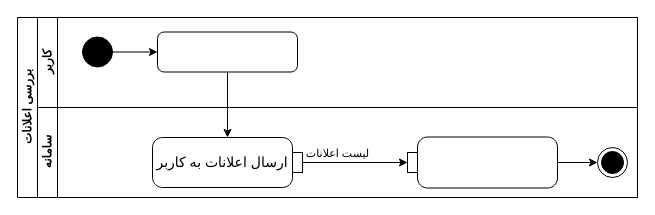
Image size: 655x215. Some labels were removed from this diagram. Here are the shapes that lost their labels. From the top down, the centre of each, then its label:
the point at 227,51: درخواست خواندن اعلانات
the point at 482,162: نمایش اعلانات
